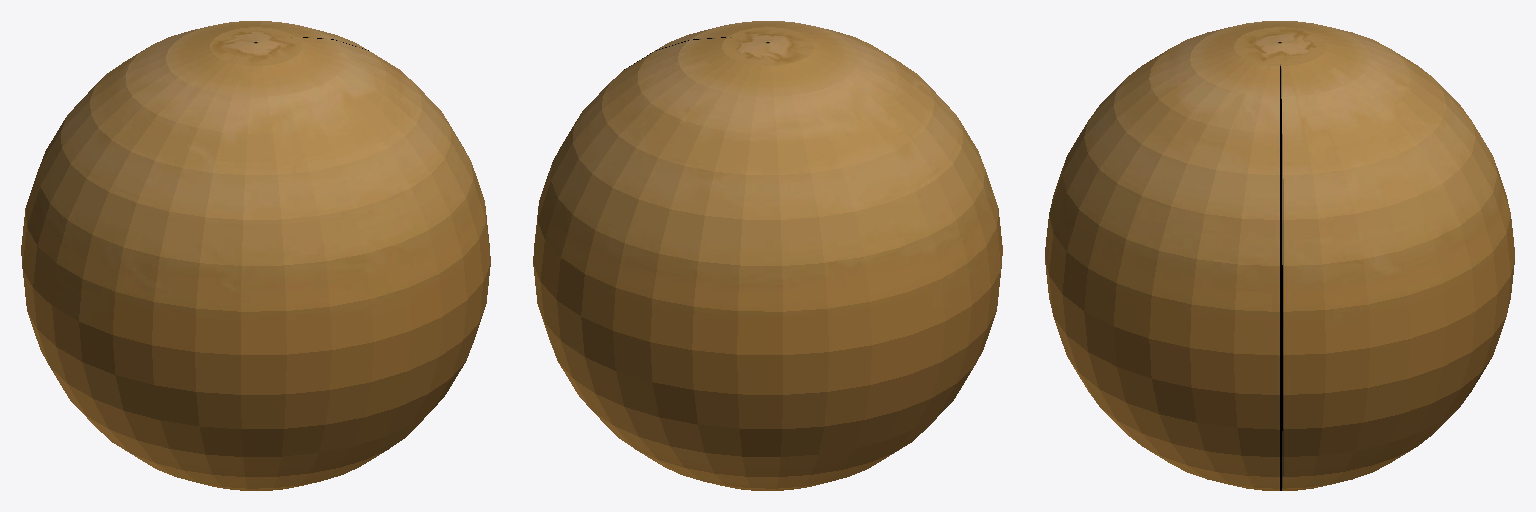
The picture shows the model from 3 angles: view 1: azimuth 30°, elevation 25°; view 2: azimuth 150°, elevation 25°; view 3: azimuth 270°, elevation 25°; orthographic projection.
Parts seen in each view (by area): view 1: Sphere_Sphere.005; view 2: Sphere_Sphere.005; view 3: Sphere_Sphere.005.
Part boxes in pixels (left/top/right/bottom): Sphere_Sphere.005: left=21, top=21, right=490, bottom=490; Sphere_Sphere.005: left=533, top=21, right=1002, bottom=490; Sphere_Sphere.005: left=1045, top=21, right=1514, bottom=490.
Size of the model in its own units: 5.15 by 5.15 by 5.15.
Materials: 1 (1 with a texture image).